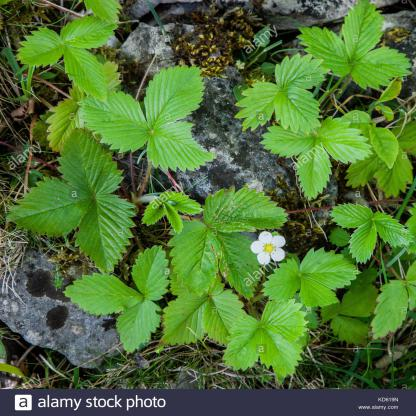strawberry leaf: (258, 245, 359, 315), (224, 299, 310, 380), (7, 174, 95, 239), (71, 194, 136, 274), (53, 124, 123, 198), (204, 183, 293, 236), (75, 91, 151, 151), (170, 218, 226, 297), (142, 63, 212, 126), (143, 118, 223, 173), (60, 268, 140, 316), (292, 22, 353, 79), (58, 41, 113, 103), (112, 299, 164, 362), (160, 289, 213, 350), (231, 80, 287, 137), (312, 118, 376, 167), (269, 82, 321, 141), (346, 45, 413, 90), (343, 0, 386, 67), (127, 244, 175, 304), (294, 139, 337, 200), (11, 28, 69, 72), (256, 126, 325, 161), (275, 54, 331, 90), (64, 15, 120, 50), (349, 214, 378, 264), (376, 212, 413, 248), (330, 202, 374, 230)
